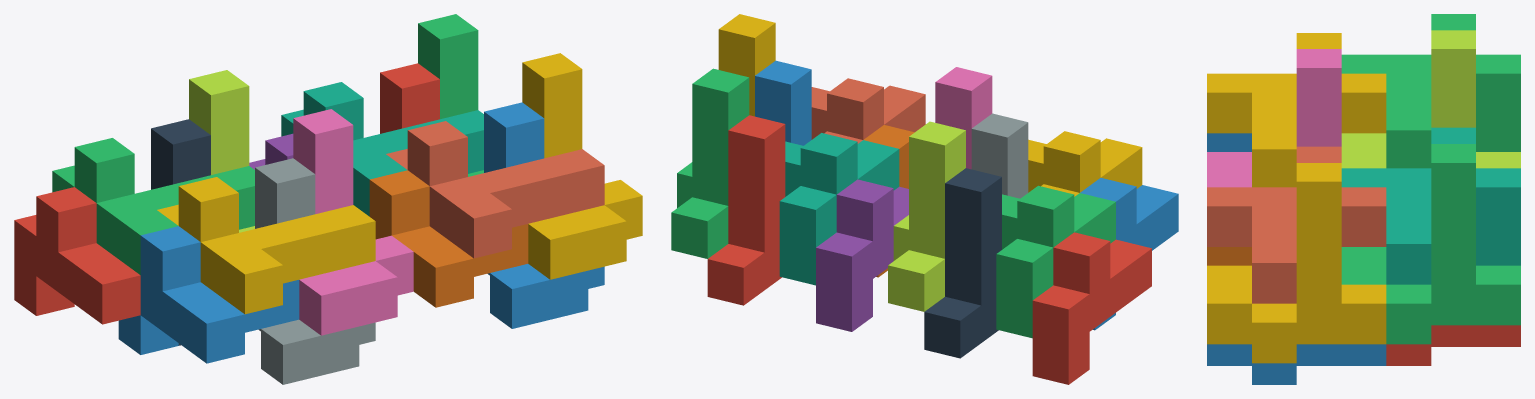
File: tiling.obj
3 views of the same model, side by side, from view 1: azimuth 30°, elevation 25°; view 2: azimuth 150°, elevation 25°; view 3: azimuth 270°, elevation 25° (orthographic). The views are drawn at different scales.
Visible parts, largest first — view 1: copy_1_domain_8, copy_1_domain_4, copy_1_domain_2, copy_2_domain_8, copy_2_domain_4, copy_1_domain_1, copy_1_domain_3, copy_1_domain_6, copy_2_domain_2, copy_2_domain_6, copy_1_domain_7, copy_2_domain_7 (+4 smaller); view 2: copy_1_domain_1, copy_2_domain_5, copy_2_domain_1, copy_1_domain_7, copy_1_domain_3, copy_1_domain_5, copy_2_domain_7, copy_2_domain_3, copy_1_domain_4, copy_1_domain_8, copy_1_domain_2, copy_2_domain_2 (+4 smaller); view 3: copy_2_domain_8, copy_2_domain_7, copy_1_domain_8, copy_1_domain_4, copy_1_domain_7, copy_1_domain_3, copy_2_domain_3, copy_2_domain_4, copy_2_domain_6, copy_2_domain_5, copy_1_domain_2, copy_1_domain_6.
Boxes of the visible parts, left/top/right/bottom form: copy_1_domain_8: left=386, top=121, right=604, bottom=258; copy_1_domain_4: left=157, top=177, right=375, bottom=314; copy_1_domain_2: left=118, top=226, right=299, bottom=363; copy_2_domain_8: left=522, top=53, right=642, bottom=279; copy_2_domain_4: left=293, top=109, right=413, bottom=335; copy_1_domain_1: left=14, top=187, right=140, bottom=324; copy_1_domain_3: left=52, top=138, right=254, bottom=274; copy_1_domain_6: left=369, top=170, right=528, bottom=307; copy_2_domain_2: left=255, top=158, right=375, bottom=384; copy_2_domain_6: left=484, top=102, right=604, bottom=328; copy_1_domain_7: left=281, top=82, right=483, bottom=216; copy_2_domain_7: left=418, top=14, right=483, bottom=176; copy_1_domain_1: left=1032, top=232, right=1151, bottom=384; copy_2_domain_5: left=707, top=115, right=785, bottom=305; copy_2_domain_1: left=924, top=168, right=1001, bottom=358; copy_1_domain_7: left=779, top=133, right=899, bottom=285; copy_1_domain_3: left=996, top=185, right=1115, bottom=338; copy_1_domain_5: left=816, top=179, right=908, bottom=331; copy_2_domain_7: left=671, top=68, right=749, bottom=258; copy_2_domain_3: left=888, top=121, right=965, bottom=311; copy_1_domain_4: left=1028, top=131, right=1142, bottom=196; copy_1_domain_8: left=811, top=78, right=925, bottom=143; copy_1_domain_2: left=1080, top=178, right=1178, bottom=330; copy_2_domain_2: left=971, top=113, right=1028, bottom=198; copy_2_domain_8: left=1207, top=163, right=1386, bottom=363; copy_2_domain_7: left=1341, top=144, right=1520, bottom=344; copy_1_domain_8: left=1207, top=146, right=1386, bottom=303; copy_1_domain_4: left=1207, top=33, right=1386, bottom=187; copy_1_domain_7: left=1341, top=127, right=1520, bottom=284; copy_1_domain_3: left=1341, top=14, right=1520, bottom=168; copy_2_domain_3: left=1341, top=30, right=1520, bottom=168; copy_2_domain_4: left=1207, top=49, right=1341, bottom=187; copy_2_domain_6: left=1207, top=344, right=1386, bottom=384; copy_2_domain_5: left=1386, top=325, right=1520, bottom=365; copy_1_domain_2: left=1207, top=133, right=1251, bottom=151; copy_1_domain_6: left=1207, top=247, right=1251, bottom=265.
Size of the model in its own units: 13 by 5 by 7.
